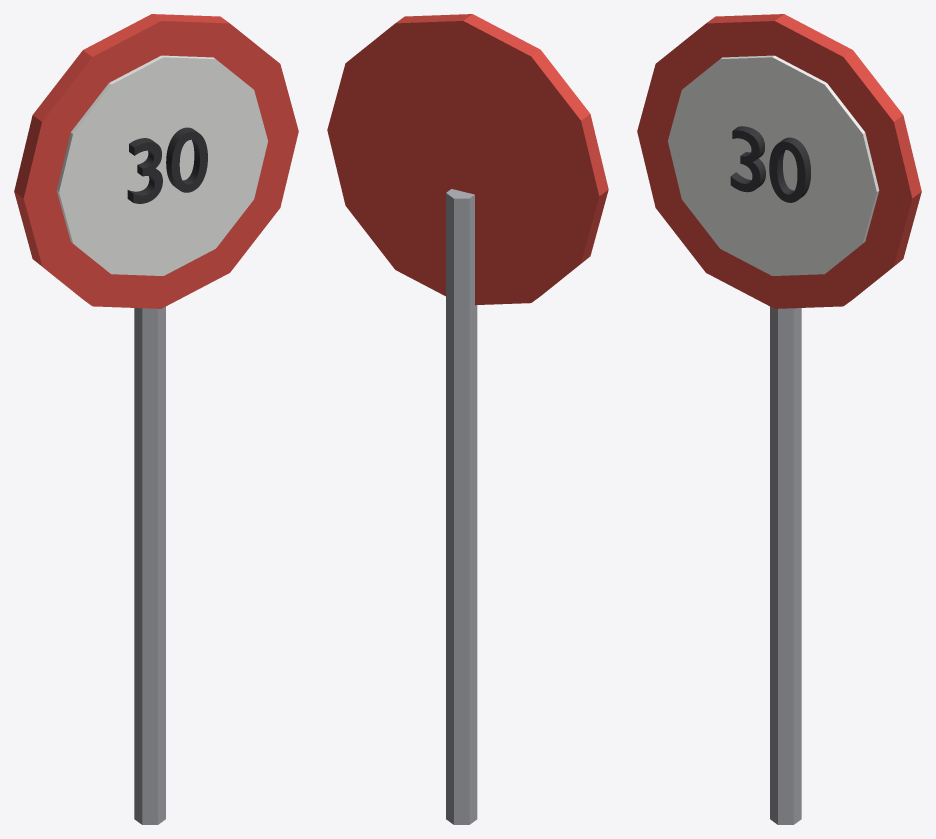
Rendered from EN_SlowSign.glb.
The picture shows the model from 3 angles, left to right: view 1: azimuth 30°, elevation 25°; view 2: azimuth 150°, elevation 25°; view 3: azimuth 330°, elevation 25°; orthographic projection.
Visible parts, largest first — view 1: EN_SlowSign; view 2: EN_SlowSign; view 3: EN_SlowSign.
Boxes of the visible parts, x1,y1,x2,y2 form: EN_SlowSign: [14, 14, 298, 824]; EN_SlowSign: [327, 14, 608, 824]; EN_SlowSign: [637, 14, 921, 824].
Size of the model in its own units: 1 by 2.8 by 0.17.
